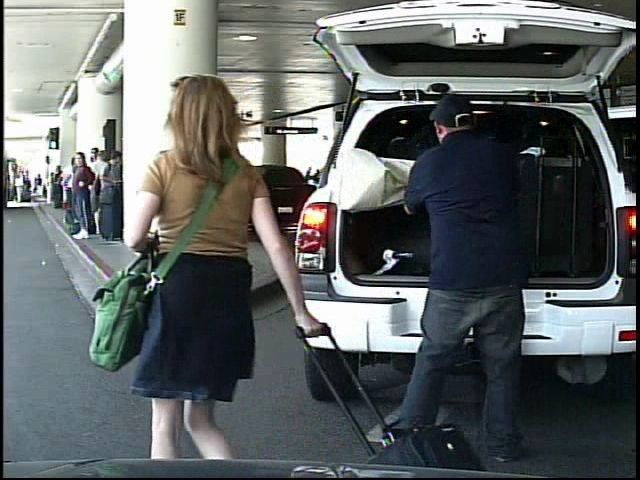person: (123, 73, 294, 460), (385, 87, 541, 451), (302, 166, 314, 195), (14, 174, 25, 204), (35, 173, 45, 200)
